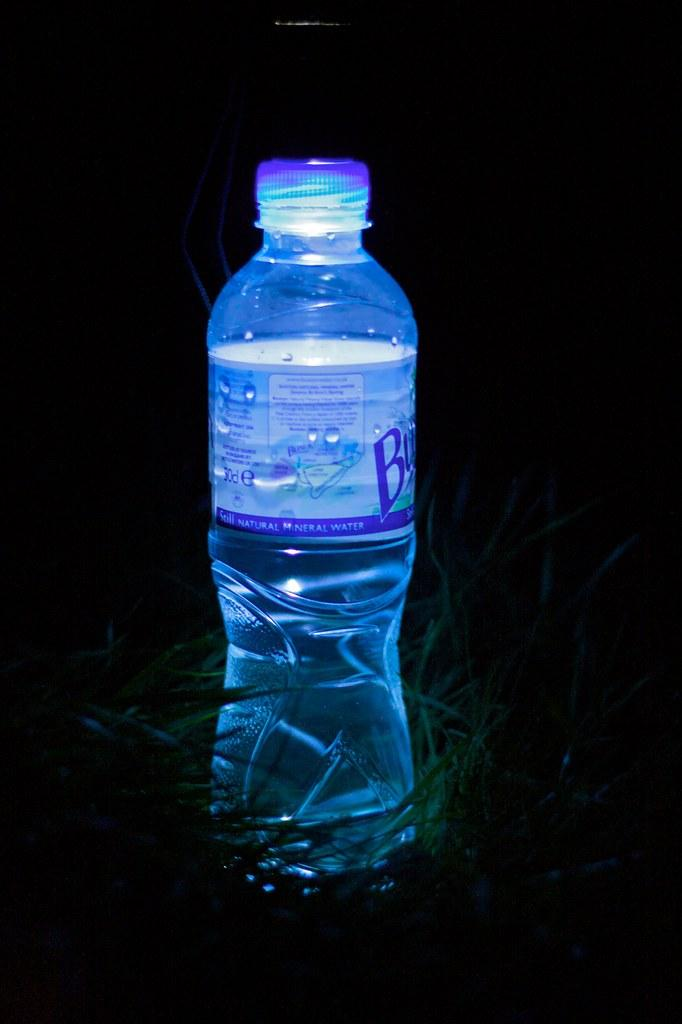bottle: (206, 157, 421, 882)
